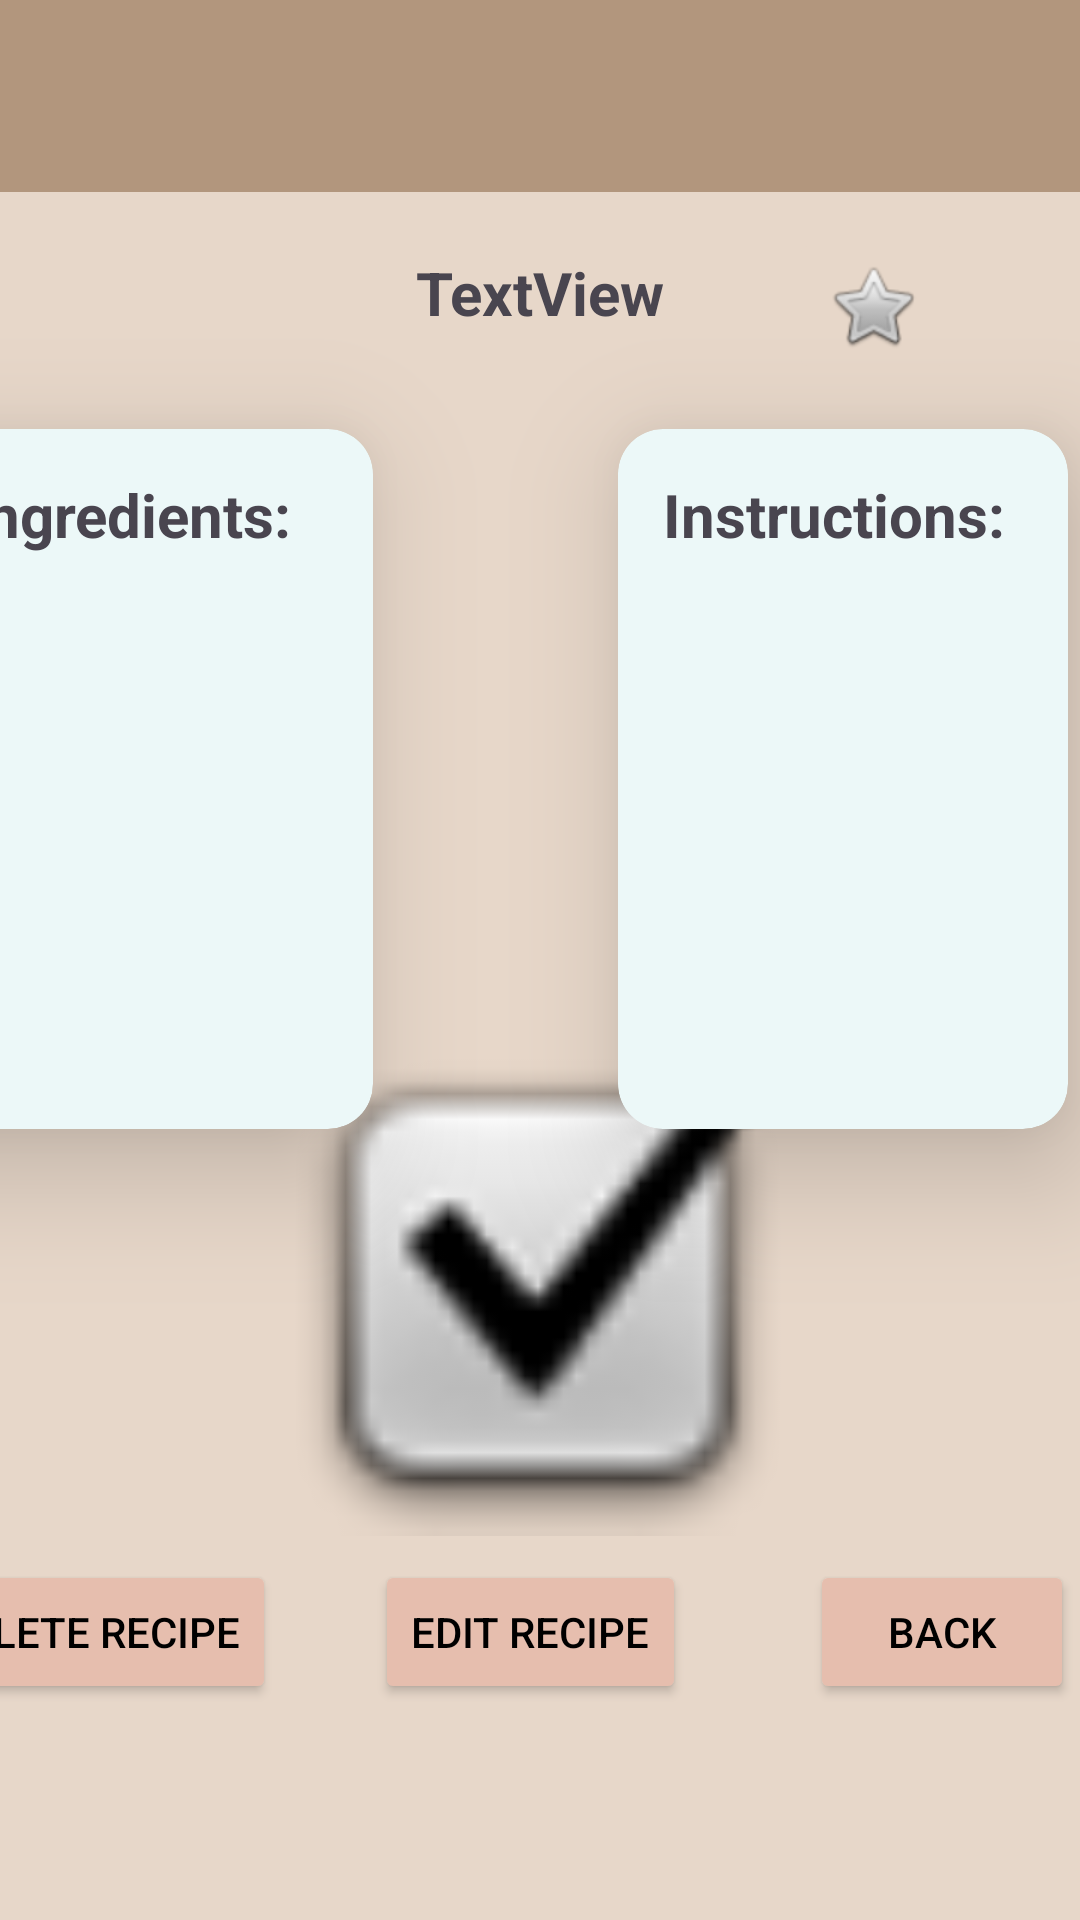

Icon bounding boxes for this 1080px x 1920px phone screenshot, format region(x1, y1, x2, y2):
star off: region(834, 268, 914, 346)
